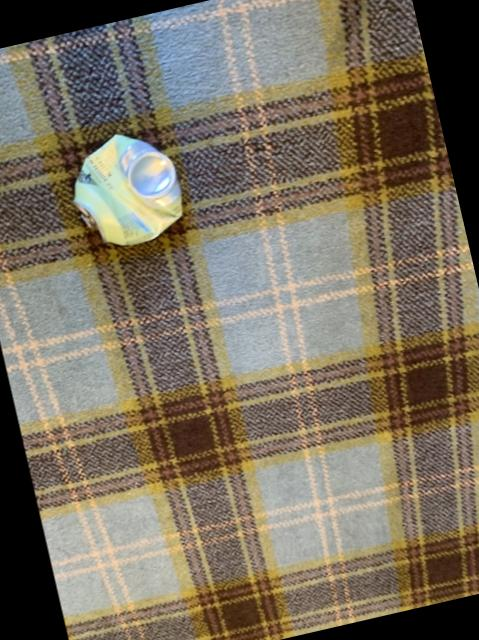metal: (73, 132, 181, 242)
